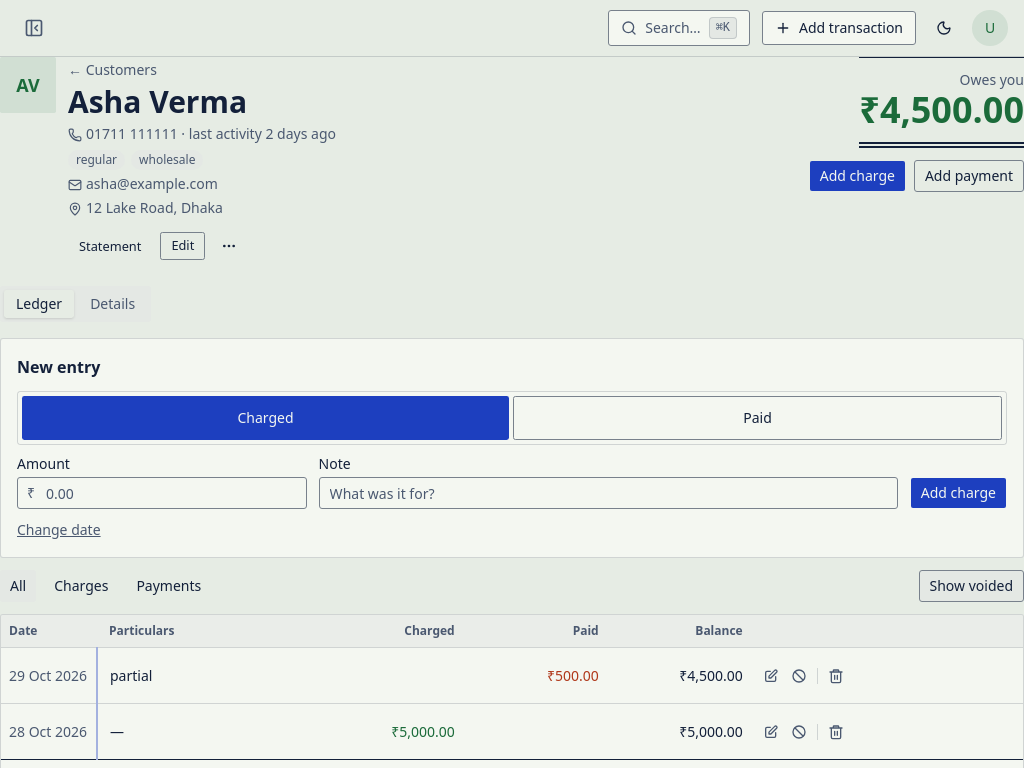
Test case: S-31 customer detail v2 › Details tab shows every profile field and notes
Expected: the tab "Ledger" is shown, [4,290,74,318]
Click the tab "Details".
click(113, 304)  # box [78,290,147,318]
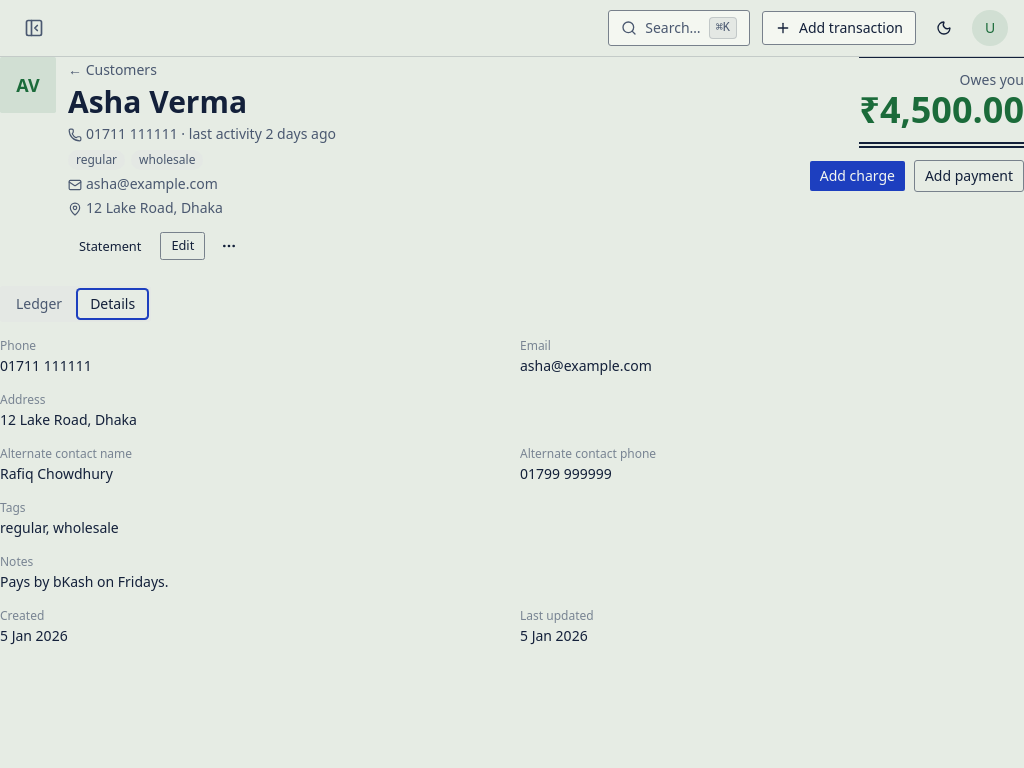
Now the text "Phone" is shown, box [0,337,36,354]
Now the text "Email" is shown, box [520,337,551,354]
Now the text "Address" is shown, box [0,391,45,408]
